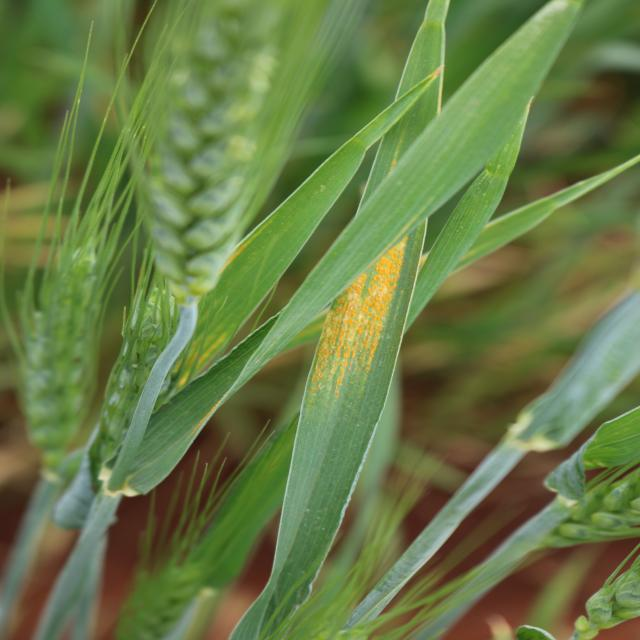Stripe Rust: (309, 327, 380, 401), (369, 240, 412, 285), (334, 296, 391, 326)
